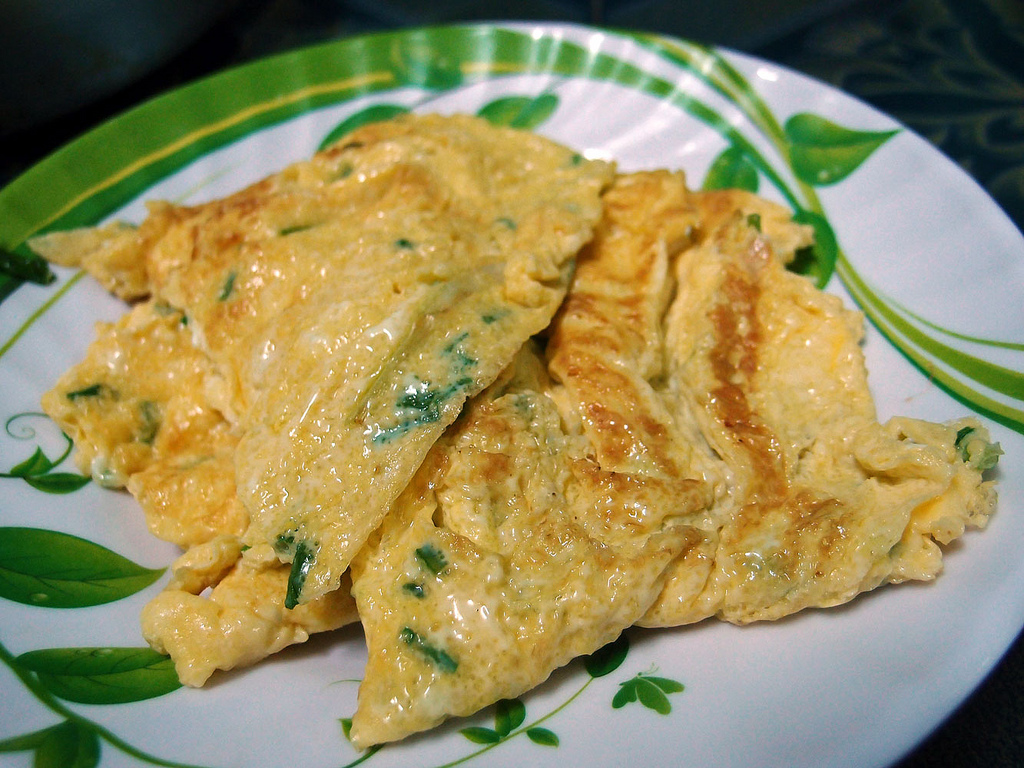fried egg: (141, 191, 836, 685)
